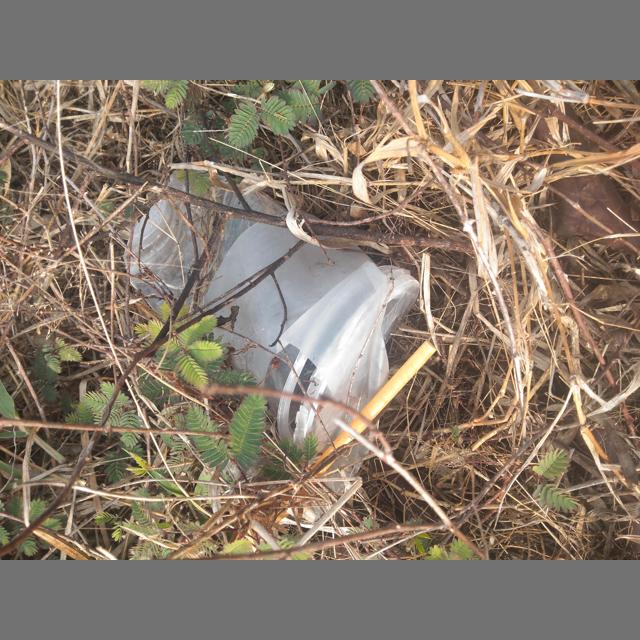litter: (123, 169, 420, 462), (198, 211, 390, 494), (295, 274, 420, 460), (309, 341, 438, 478)
